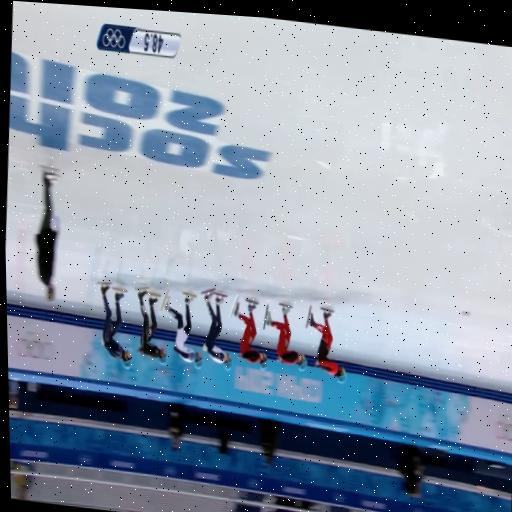Skater: (162, 289, 202, 368), (263, 303, 307, 370), (306, 306, 345, 381), (98, 281, 131, 368), (231, 297, 267, 369), (202, 290, 231, 369), (136, 287, 165, 363)
